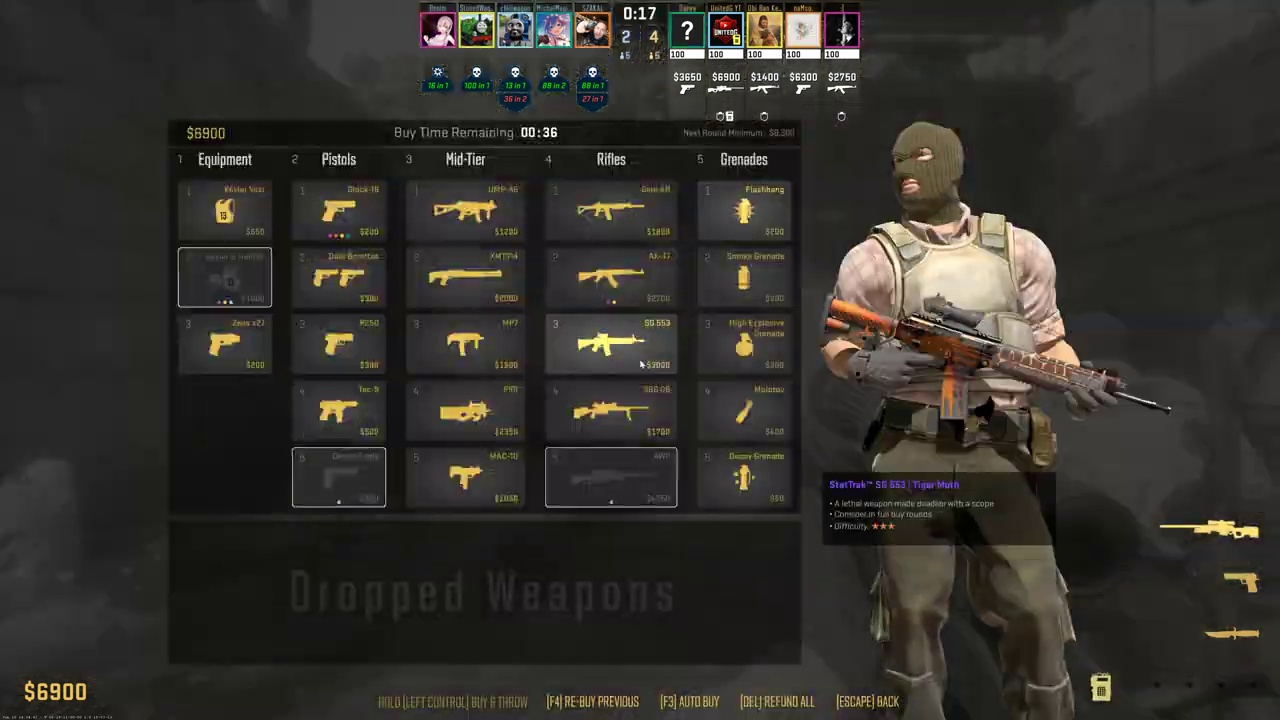Terrorist: (845, 126, 1087, 720)
